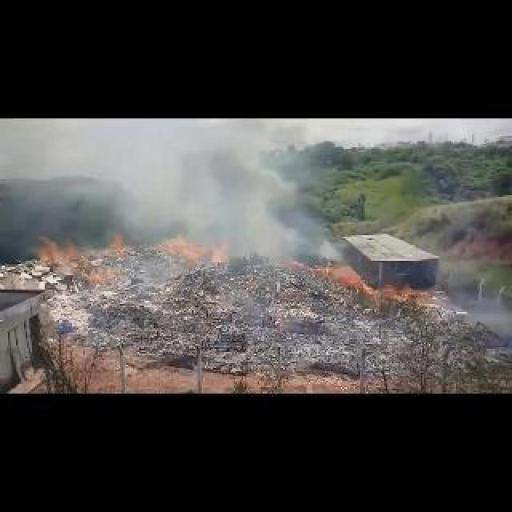smoke: (122, 126, 312, 264), (456, 269, 510, 342), (318, 264, 413, 304), (164, 236, 226, 262), (37, 234, 78, 260), (86, 266, 118, 283), (101, 234, 123, 250)
